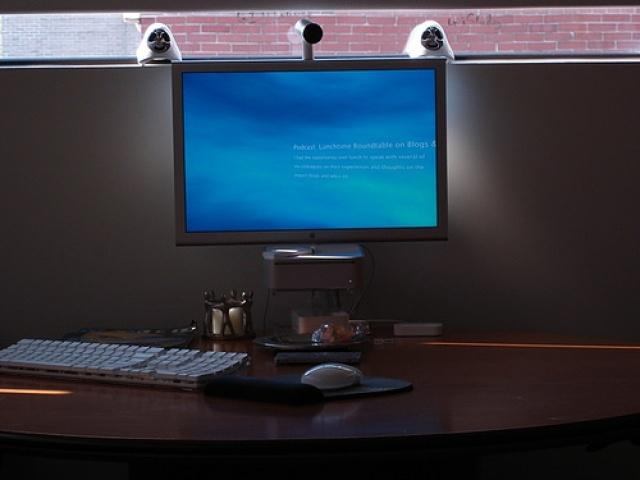AIO PC-Monitor-TV: (169, 57, 448, 247)
